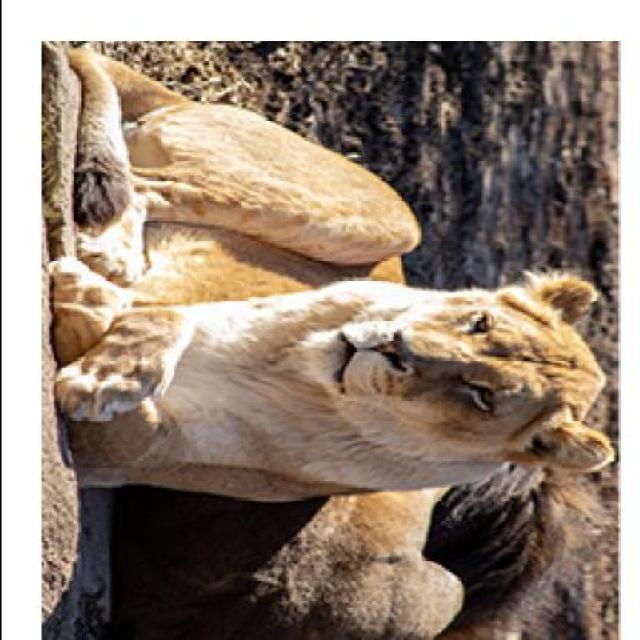Lion: (52, 28, 625, 504)
